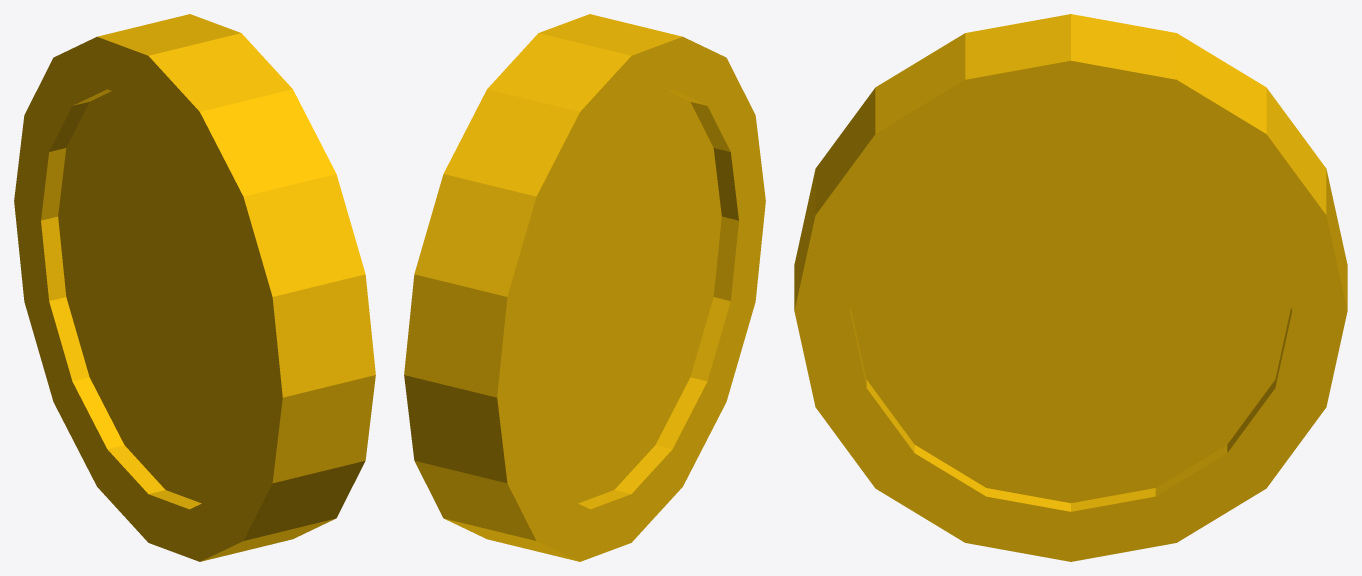
Rendered from coin.gltf.
3 renders of one model, left to right at view 1: azimuth 30°, elevation 25°; view 2: azimuth 150°, elevation 25°; view 3: azimuth 270°, elevation 25°, orthographic. The views are drawn at different scales.
Visible parts, largest first — view 1: Coin; view 2: Coin; view 3: Coin.
Part boxes in pixels (x1=…): Coin: x1=14, y1=14, x2=375, y2=561; Coin: x1=404, y1=14, x2=765, y2=561; Coin: x1=794, y1=14, x2=1347, y2=561.
Size of the model in its own units: 0.2 by 1 by 1.
1 material, 1 textured.
